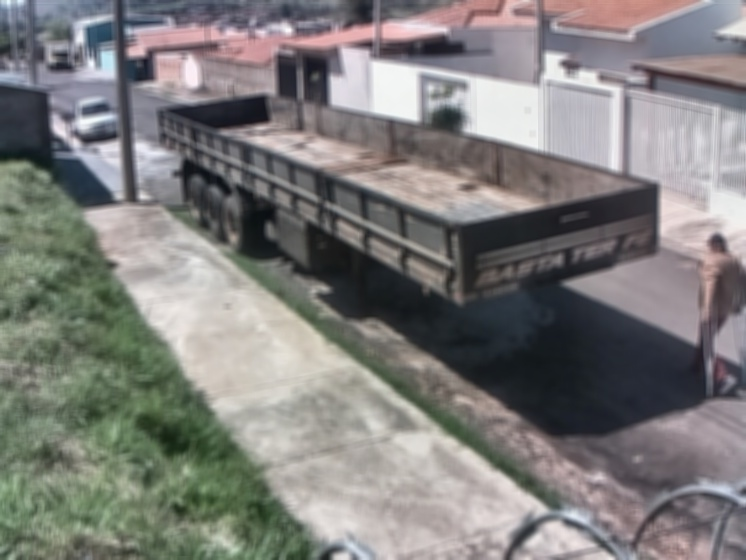person: (681, 233, 746, 402)
